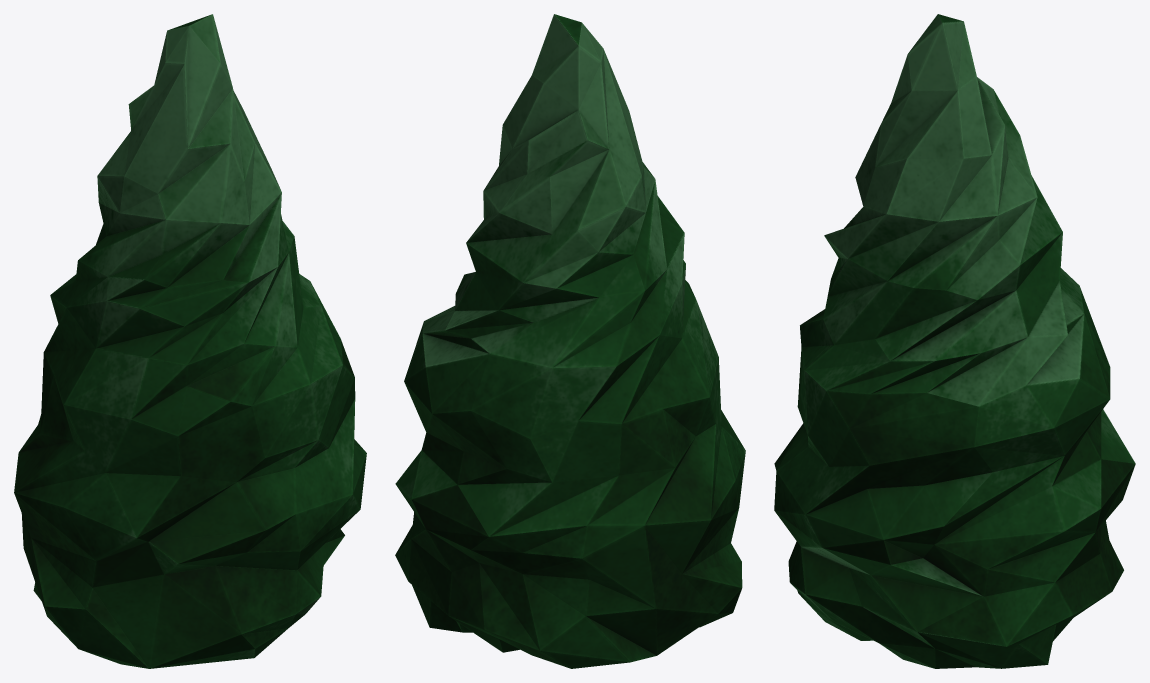
The model's file is FirTree.gltf.
3 views of the same model, side by side, from view 1: azimuth 30°, elevation 25°; view 2: azimuth 150°, elevation 25°; view 3: azimuth 270°, elevation 25° (orthographic). The views are drawn at different scales.
Parts seen in each view (by area): view 1: node-0; view 2: node-0; view 3: node-0.
Boxes of the visible parts, x1,y1,x2,y2 form: node-0: (14,14,366,668); node-0: (395,14,745,668); node-0: (774,14,1135,668).
Size of the model in its own units: 8.24 by 15.48 by 8.29.
Materials: 1 (1 with a texture image).
